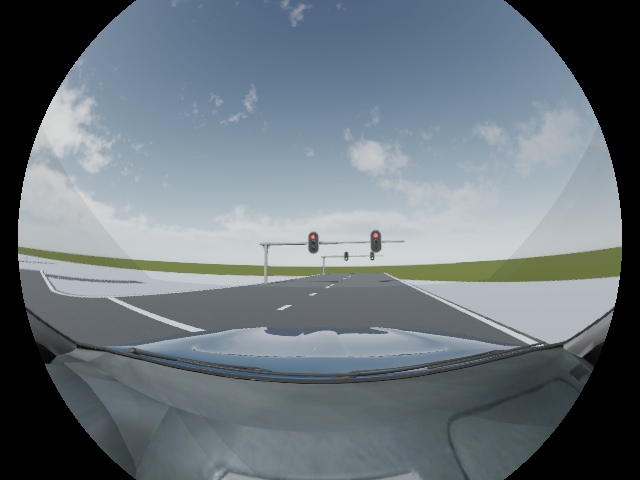Red Light: (370, 230, 382, 252), (309, 232, 319, 253)
